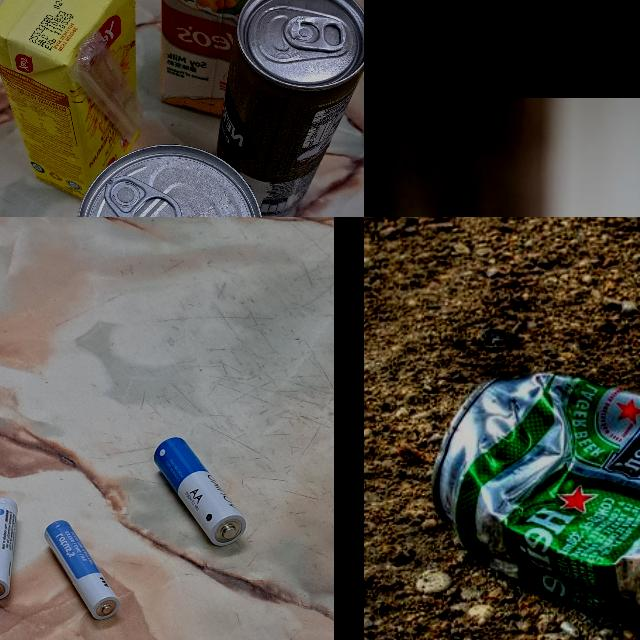aba de lata: (104, 174, 181, 217), (285, 13, 347, 52)
bateria: (152, 436, 248, 548), (42, 518, 120, 624), (0, 497, 20, 602)
caixinha: (0, 0, 137, 195), (160, 0, 308, 121)
lata: (431, 372, 640, 621), (216, 0, 364, 215), (74, 146, 263, 217)
